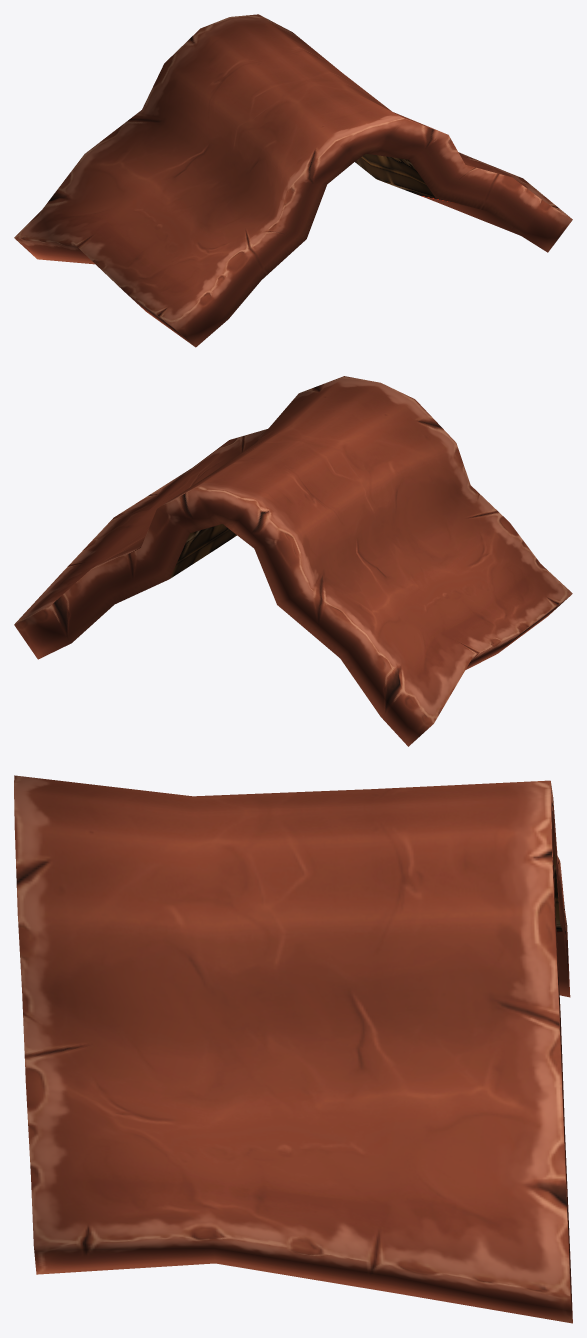
File: roof_ridge1.fbx
3 views of the same model, one above another, from view 1: azimuth 30°, elevation 25°; view 2: azimuth 150°, elevation 25°; view 3: azimuth 270°, elevation 25° (orthographic). The views are drawn at different scales.
Parts seen in each view (by area): view 1: roof_ridge1; view 2: roof_ridge1; view 3: roof_ridge1.
Boxes of the visible parts, x1=… form: roof_ridge1: x1=14, y1=14, x2=572, y2=347; roof_ridge1: x1=14, y1=376, x2=572, y2=746; roof_ridge1: x1=14, y1=775, x2=572, y2=1323.
Size of the model in its own units: 86.34 by 40.77 by 55.75.
